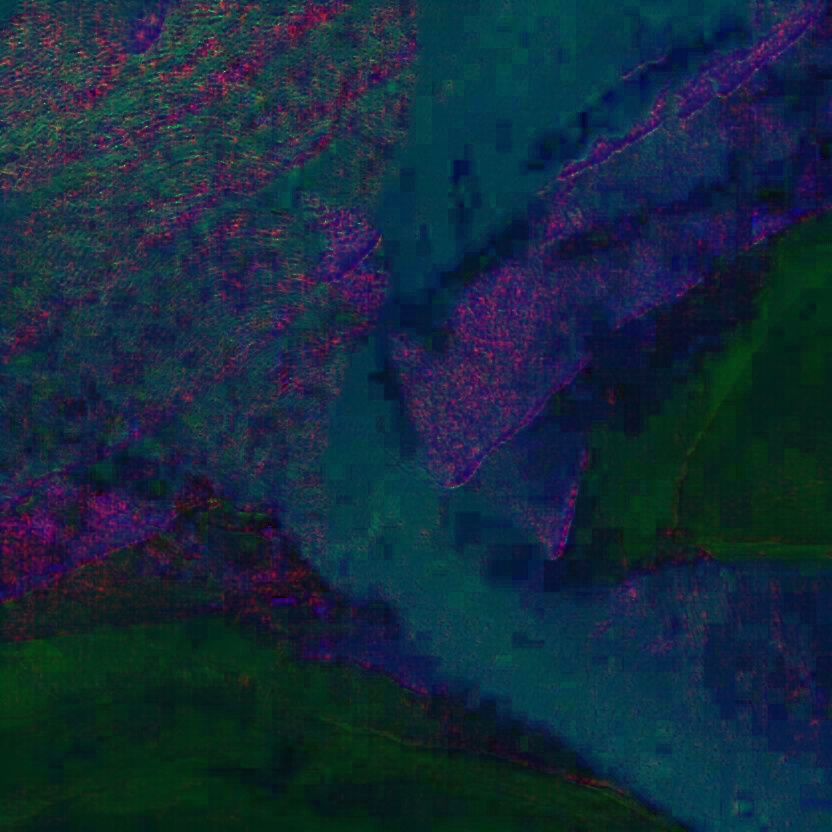rip_current: (111, 229, 504, 621)
